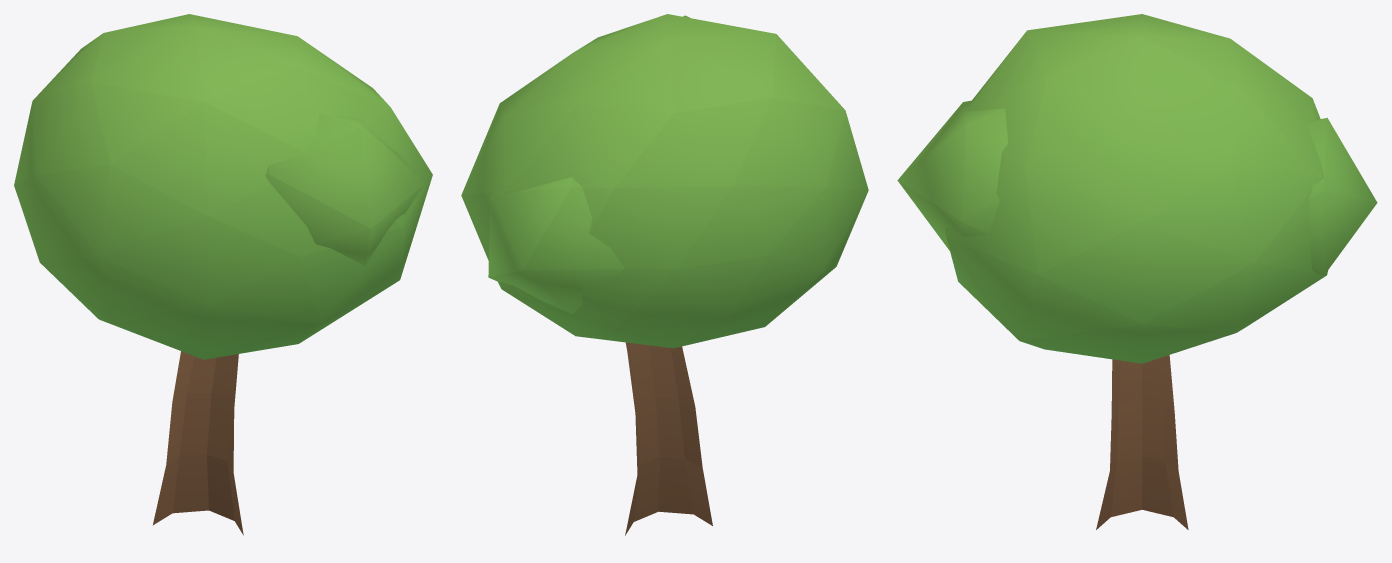
The model's file is tree_0_round.glb.
The picture shows the model from 3 angles, left to right: view 1: azimuth 30°, elevation 25°; view 2: azimuth 150°, elevation 25°; view 3: azimuth 270°, elevation 25°; orthographic projection. The views are drawn at different scales.
Parts seen in each view (by area): view 1: tree_round_0; view 2: tree_round_0; view 3: tree_round_0.
Part boxes in pixels (<box>): tree_round_0: <box>14,14,432,535</box>; tree_round_0: <box>461,14,868,535</box>; tree_round_0: <box>897,14,1377,529</box>.
Size of the model in its own units: 2.46 by 3.43 by 3.02.
